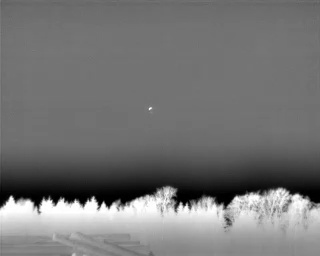BIRD: (146, 104, 154, 113)
